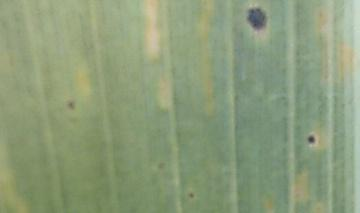tarspot: (247, 6, 266, 31), (307, 134, 317, 145), (67, 100, 75, 110), (187, 190, 194, 199)
